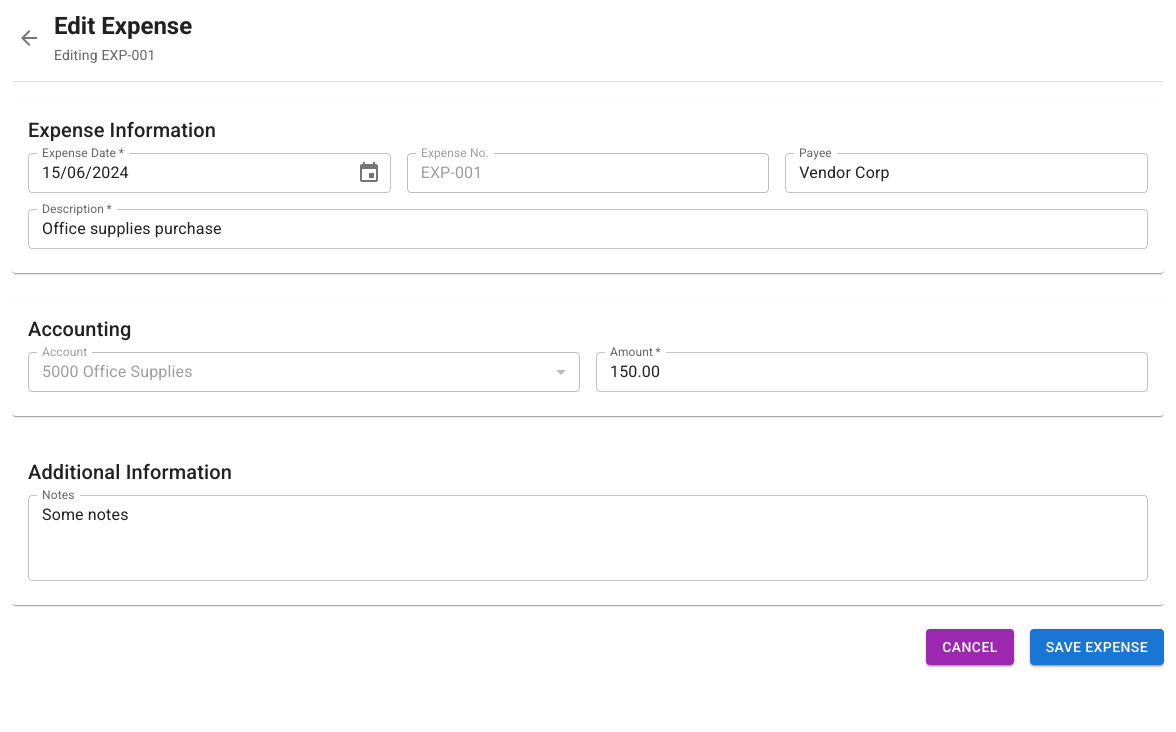
Scenario: ExpenseFormPage - Edit locks › disables account select when expense has payments
The image size is (1176, 732).
Hover over the dropdown named "account": (117, 372) [42, 362, 193, 381]
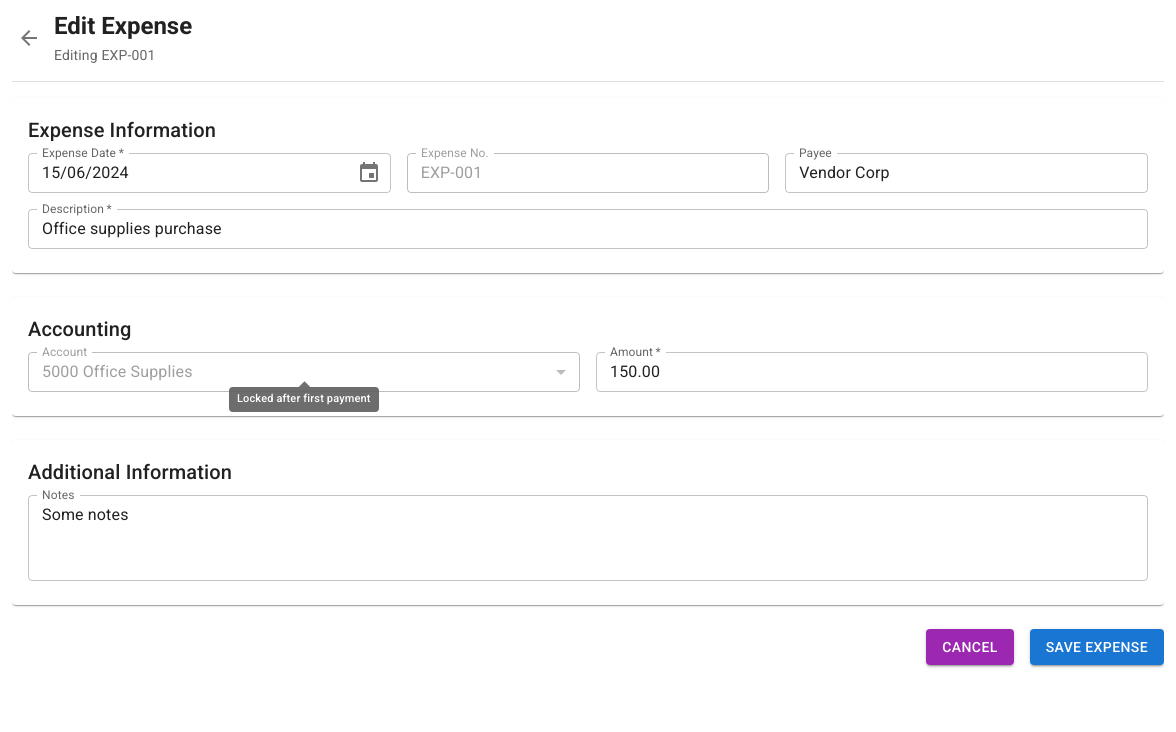
Check: the tooltip "Locked after first payment" is shown, box [227, 373, 381, 412]
